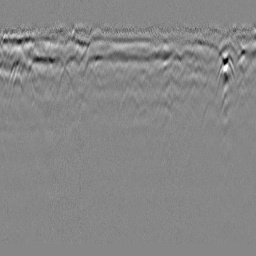cavity: (116, 85, 140, 116)
